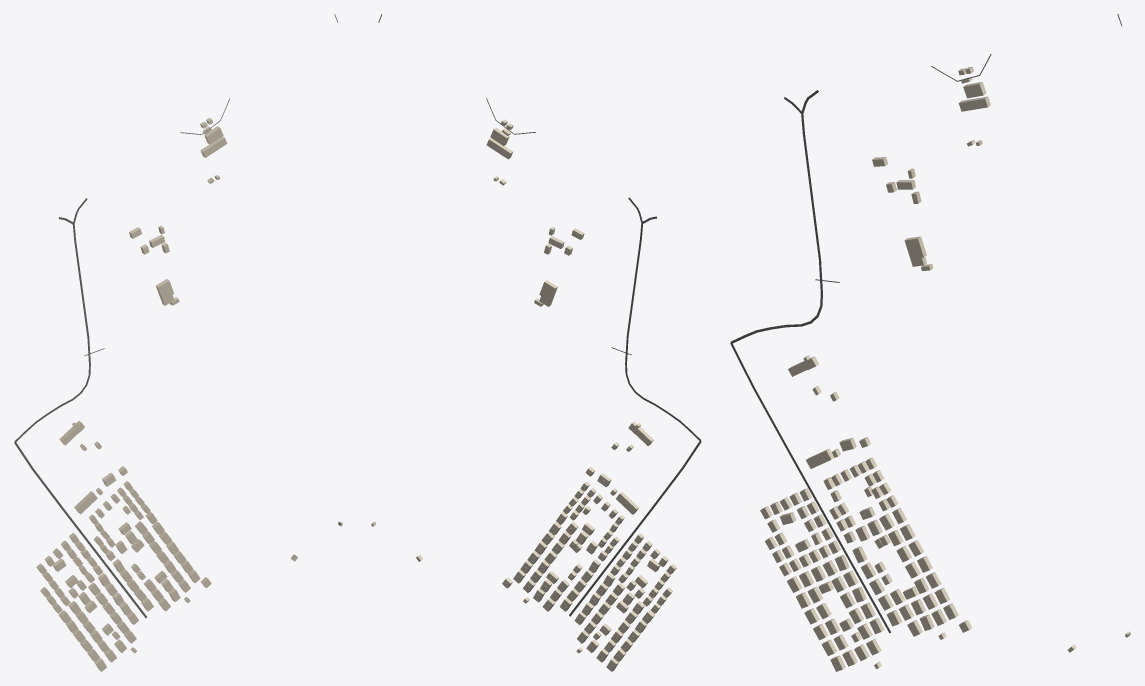
File: aqaba_3505_2956.glb
3 renders of one model, left to right at view 1: azimuth 30°, elevation 25°; view 2: azimuth 150°, elevation 25°; view 3: azimuth 330°, elevation 25°, orthographic. The views are drawn at different scales.
Parts seen in each view (by area): view 1: Road .005, Road .004; view 2: Road .005, Road .004; view 3: Road .005, Road .004.
Boxes of the visible parts, x1,y1,x2,y2 form: Road .005: (14, 224, 90, 442); Road .004: (14, 441, 146, 618); Road .005: (625, 223, 701, 441); Road .004: (569, 440, 701, 616); Road .005: (730, 113, 822, 343); Road .004: (730, 342, 890, 633).
Bounding box in the file's own units: 558 × 974 × 8.7.
